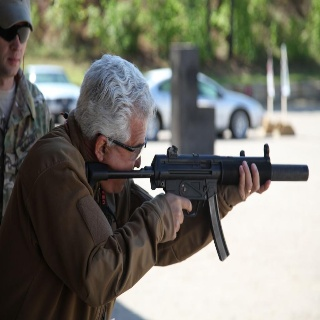rifle: (85, 143, 309, 265)
